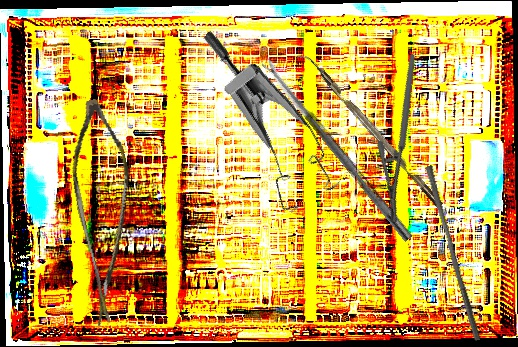Chopper: (293, 46, 444, 216)
Micro Scissor: (44, 95, 165, 330)
Needle Holder: (341, 53, 466, 224)
Pusher: (418, 164, 489, 342)
Speculum: (150, 28, 366, 227)
Surgical Spoon: (261, 57, 414, 242)
